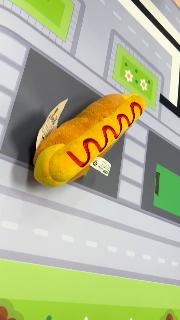hotdog: (33, 92, 147, 188), (65, 102, 142, 168)
